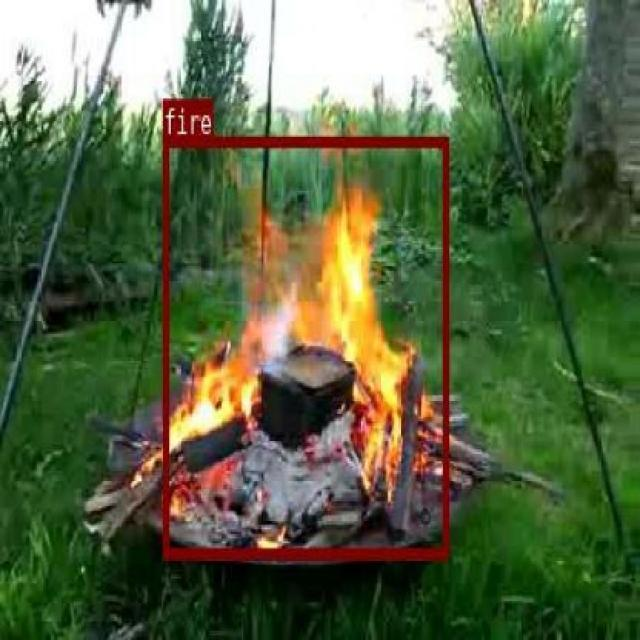Fire: (162, 135, 448, 557)
